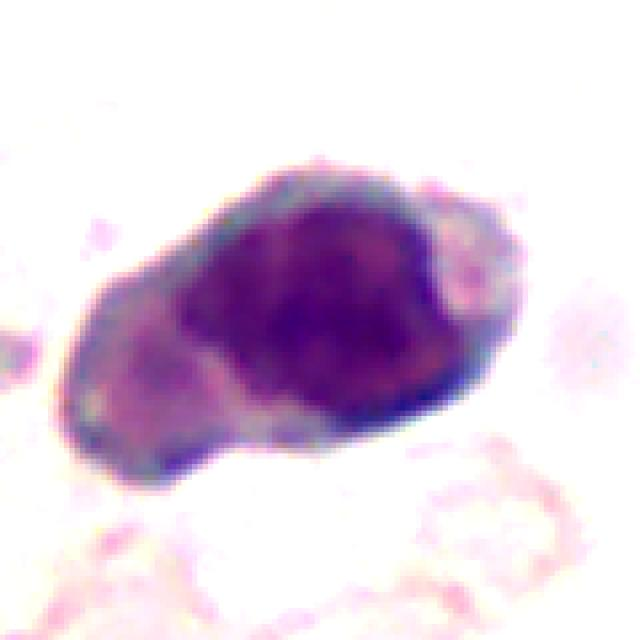WBC: (37, 150, 555, 518)
